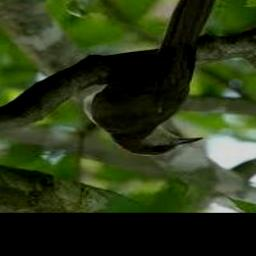Cuckoo: (83, 0, 218, 156)
